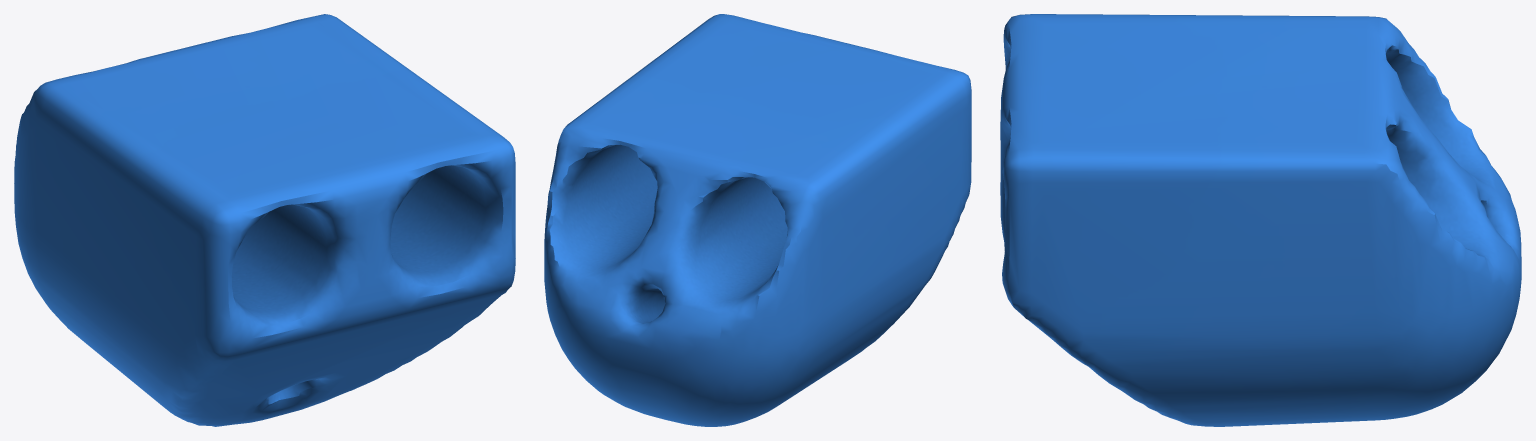
Rendered from right_finger4_upper.obj.
The picture shows the model from 3 angles, left to right: view 1: azimuth 30°, elevation 25°; view 2: azimuth 150°, elevation 25°; view 3: azimuth 270°, elevation 25°; orthographic projection. The views are drawn at different scales.
Visible parts, largest first — view 1: right_finger4_upper; view 2: right_finger4_upper; view 3: right_finger4_upper.
Part boxes in pixels (left/top/right/bottom): right_finger4_upper: left=14, top=14, right=515, bottom=426; right_finger4_upper: left=544, top=14, right=971, bottom=426; right_finger4_upper: left=1000, top=14, right=1521, bottom=426.
Bounding box in the file's own units: 0.0102 × 0.01 × 0.0146.
Materials: 1 (1 with a texture image).
